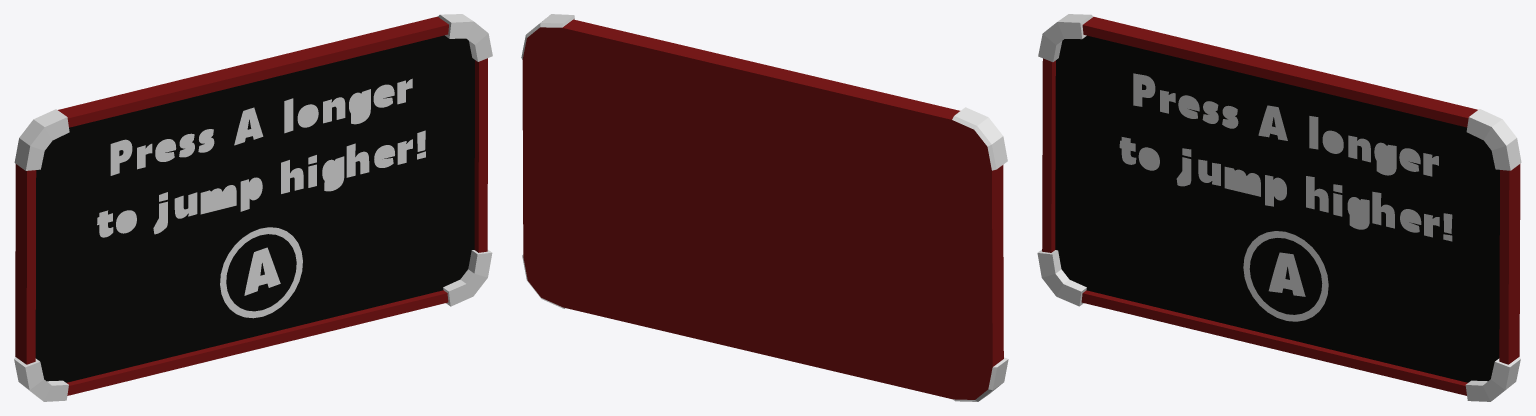
The model's file is Tuto2-XB.FBX.
The picture shows the model from 3 angles, left to right: view 1: azimuth 30°, elevation 25°; view 2: azimuth 150°, elevation 25°; view 3: azimuth 330°, elevation 25°; orthographic projection.
Parts seen in each view (by area): view 1: Pizarra 4, Text014, Shape011, Text017; view 2: Pizarra 4; view 3: Pizarra 4, Text014, Shape011, Text017.
Part boxes in pixels (box(x1,y1,x2,y2)): Pizarra 4: box(14, 14, 492, 401); Text014: box(97, 78, 425, 237); Shape011: box(220, 227, 302, 318); Text017: box(244, 247, 280, 295); Pizarra 4: box(521, 14, 1008, 401); Pizarra 4: box(1037, 14, 1521, 401); Text014: box(1119, 73, 1452, 241); Shape011: box(1243, 231, 1328, 321); Text017: box(1268, 252, 1305, 296).
Size of the model in its own units: 77.68 by 44.99 by 4.52.
